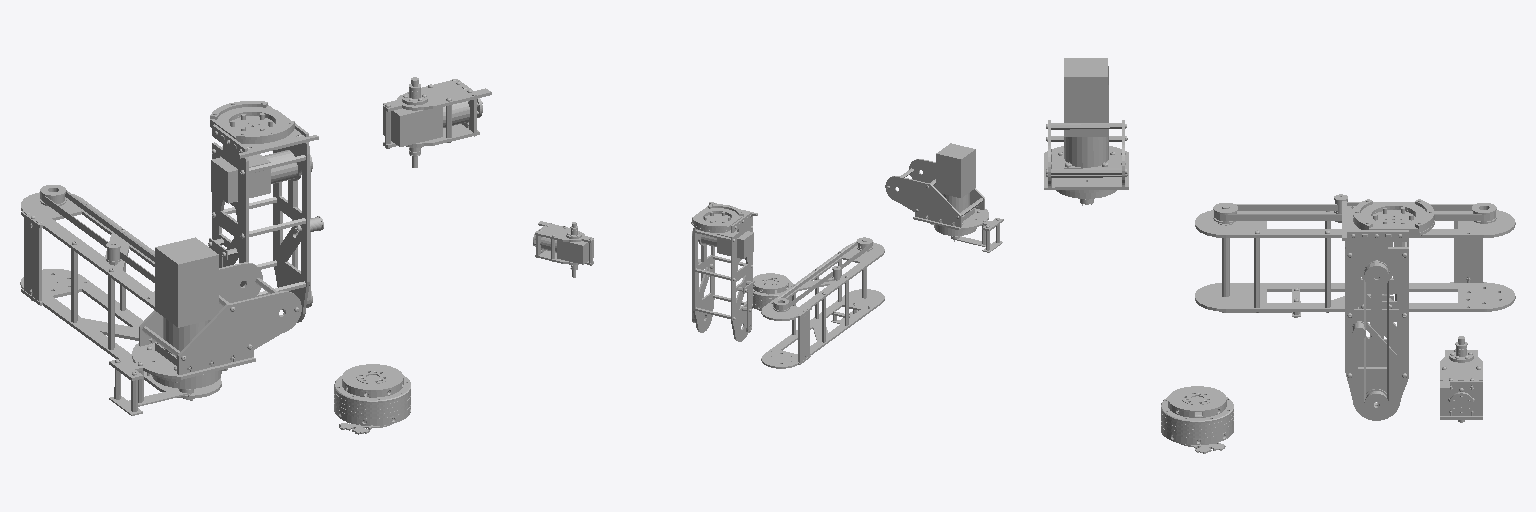
URDF robot description (urdf2):
<?xml version="1.0" encoding="utf-8"?>
<!-- This URDF was automatically created by SolidWorks to URDF Exporter! Originally created by [author] ([email redacted]) 
     Commit Version: 1.6.0-1-g15f4949  Build Version: 1.6.7594.29634
     For more information, please see http://wiki.ros.org/sw_urdf_exporter -->
<robot
  name="urdf2">
  <link
    name="base_link">
    <inertial>
      <origin
        xyz="-0.14899 0.15002 -0.0759"
        rpy="0 0 0" />
      <mass
        value="1.9822" />
      <inertia
        ixx="0.012049"
        ixy="1.1566E-08"
        ixz="1.8132E-07"
        iyy="0.011641"
        iyz="1.7455E-07"
        izz="0.016009" />
    </inertial>
    <visual>
      <origin
        xyz="0 0 0"
        rpy="0 0 0" />
      <geometry>
        <mesh
          filename="package://urdf2/meshes/base_link.STL" />
      </geometry>
      <material
        name="">
        <color
          rgba="0.75294 0.75294 0.75294 1" />
      </material>
    </visual>
    <collision>
      <origin
        xyz="0 0 0"
        rpy="0 0 0" />
      <geometry>
        <mesh
          filename="package://urdf2/meshes/base_link.STL" />
      </geometry>
    </collision>
  </link>
  <link
    name="link1">
    <inertial>
      <origin
        xyz="-0.0013865 0.15276 0.088653"
        rpy="0 0 0" />
      <mass
        value="1.3755" />
      <inertia
        ixx="0.0017311"
        ixy="4.6286E-06"
        ixz="5.0014E-06"
        iyy="0.002521"
        iyz="-0.00028073"
        izz="0.0030047" />
    </inertial>
    <visual>
      <origin
        xyz="0 0 0"
        rpy="0 0 0" />
      <geometry>
        <mesh
          filename="package://urdf2/meshes/link1.STL" />
      </geometry>
      <material
        name="">
        <color
          rgba="0.75294 0.75294 0.75294 1" />
      </material>
    </visual>
    <collision>
      <origin
        xyz="0 0 0"
        rpy="0 0 0" />
      <geometry>
        <mesh
          filename="package://urdf2/meshes/link1.STL" />
      </geometry>
    </collision>
  </link>
  <joint
    name="joint1"
    type="revolute">
    <origin
      xyz="-0.15 0.15 0.0375"
      rpy="0 0 0" />
    <parent
      link="base_link" />
    <child
      link="link1" />
    <axis
      xyz="0 0 1" />
    <limit
      lower="0"
      upper="0"
      effort="0"
      velocity="0" />
  </joint>
  <link
    name="link2">
    <inertial>
      <origin
        xyz="-0.17171 -0.0022525 -0.012291"
        rpy="0 0 0" />
      <mass
        value="0.2987" />
      <inertia
        ixx="0.00016953"
        ixy="5.2701E-06"
        ixz="-9.0978E-13"
        iyy="0.0029683"
        iyz="-8.8435E-13"
        izz="0.0030499" />
    </inertial>
    <visual>
      <origin
        xyz="0 0 0"
        rpy="0 0 0" />
      <geometry>
        <mesh
          filename="package://urdf2/meshes/link2.STL" />
      </geometry>
      <material
        name="">
        <color
          rgba="0.75294 0.75294 0.75294 1" />
      </material>
    </visual>
    <collision>
      <origin
        xyz="0 0 0"
        rpy="0 0 0" />
      <geometry>
        <mesh
          filename="package://urdf2/meshes/link2.STL" />
      </geometry>
    </collision>
  </link>
  <joint
    name="joint2"
    type="revolute">
    <origin
      xyz="-0.0005 0.18 0.118"
      rpy="-1.5708 0 1.5708" />
    <parent
      link="link1" />
    <child
      link="link2" />
    <axis
      xyz="0 0 -1" />
    <limit
      lower="0"
      upper="0"
      effort="0"
      velocity="0" />
  </joint>
  <link
    name="link3">
    <inertial>
      <origin
        xyz="-0.10081 -0.0057971 2.01E-06"
        rpy="0 0 0" />
      <mass
        value="0.69326" />
      <inertia
        ixx="0.00097315"
        ixy="-2.9051E-05"
        ixz="-6.3293E-09"
        iyy="0.0006427"
        iyz="7.8716E-09"
        izz="0.0011748" />
    </inertial>
    <visual>
      <origin
        xyz="0 0 0"
        rpy="0 0 0" />
      <geometry>
        <mesh
          filename="package://urdf2/meshes/link3.STL" />
      </geometry>
      <material
        name="">
        <color
          rgba="0.75294 0.75294 0.75294 1" />
      </material>
    </visual>
    <collision>
      <origin
        xyz="0 0 0"
        rpy="0 0 0" />
      <geometry>
        <mesh
          filename="package://urdf2/meshes/link3.STL" />
      </geometry>
    </collision>
  </link>
  <joint
    name="joint3"
    type="revolute">
    <origin
      xyz="-0.33 0 0"
      rpy="0 0 1.5651" />
    <parent
      link="link2" />
    <child
      link="link3" />
    <axis
      xyz="0 0 -1" />
    <limit
      lower="0"
      upper="0"
      effort="0"
      velocity="0" />
  </joint>
  <link
    name="link4">
    <inertial>
      <origin
        xyz="0.018808 -0.0020304 0.072716"
        rpy="0 0 0" />
      <mass
        value="0.43855" />
      <inertia
        ixx="0.00096859"
        ixy="-1.2408E-08"
        ixz="5.1704E-06"
        iyy="0.0009677"
        iyz="8.7228E-13"
        izz="0.00033754" />
    </inertial>
    <visual>
      <origin
        xyz="0 0 0"
        rpy="0 0 0" />
      <geometry>
        <mesh
          filename="package://urdf2/meshes/link4.STL" />
      </geometry>
      <material
        name="">
        <color
          rgba="0.75294 0.75294 0.75294 1" />
      </material>
    </visual>
    <collision>
      <origin
        xyz="0 0 0"
        rpy="0 0 0" />
      <geometry>
        <mesh
          filename="package://urdf2/meshes/link4.STL" />
      </geometry>
    </collision>
  </link>
  <joint
    name="joint4"
    type="revolute">
    <origin
      xyz="-0.10547 -0.092097 0"
      rpy="1.5708 0 0.0057265" />
    <parent
      link="link3" />
    <child
      link="link4" />
    <axis
      xyz="0 0 -1" />
    <limit
      lower="0"
      upper="0"
      effort="0"
      velocity="0" />
  </joint>
  <link
    name="link5">
    <inertial>
      <origin
        xyz="-7.4642E-05 0.018439 -0.001988"
        rpy="0 0 0" />
      <mass
        value="0.2392" />
      <inertia
        ixx="0.00018859"
        ixy="9.6096E-07"
        ixz="1.4516E-09"
        iyy="5.6612E-05"
        iyz="1.1347E-08"
        izz="0.00020112" />
    </inertial>
    <visual>
      <origin
        xyz="0 0 0"
        rpy="0 0 0" />
      <geometry>
        <mesh
          filename="package://urdf2/meshes/link5.STL" />
      </geometry>
      <material
        name="">
        <color
          rgba="0.75294 0.75294 0.75294 1" />
      </material>
    </visual>
    <collision>
      <origin
        xyz="0 0 0"
        rpy="0 0 0" />
      <geometry>
        <mesh
          filename="package://urdf2/meshes/link5.STL" />
      </geometry>
    </collision>
  </link>
  <joint
    name="joint5"
    type="revolute">
    <origin
      xyz="0.02185 0 0.224"
      rpy="1.5708 -1.5708 0" />
    <parent
      link="link4" />
    <child
      link="link5" />
    <axis
      xyz="0 0 1" />
    <limit
      lower="0"
      upper="0"
      effort="0"
      velocity="0" />
  </joint>
  <link
    name="link6">
    <inertial>
      <origin
        xyz="-0.017164 -0.00018833 0.020914"
        rpy="0 0 0" />
      <mass
        value="0.021655" />
      <inertia
        ixx="6.5964E-06"
        ixy="-1.7068E-07"
        ixz="4.1883E-22"
        iyy="1.0789E-05"
        iyz="-8.5836E-21"
        izz="7.0208E-06" />
    </inertial>
    <visual>
      <origin
        xyz="0 0 0"
        rpy="0 0 0" />
      <geometry>
        <mesh
          filename="package://urdf2/meshes/link6.STL" />
      </geometry>
      <material
        name="">
        <color
          rgba="0.75294 0.75294 0.75294 1" />
      </material>
    </visual>
    <collision>
      <origin
        xyz="0 0 0"
        rpy="0 0 0" />
      <geometry>
        <mesh
          filename="package://urdf2/meshes/link6.STL" />
      </geometry>
    </collision>
  </link>
  <joint
    name="joint6"
    type="revolute">
    <origin
      xyz="0 0.086 0"
      rpy="1.5708 -1.5708 0" />
    <parent
      link="link5" />
    <child
      link="link6" />
    <axis
      xyz="0 0 1" />
    <limit
      lower="0"
      upper="0"
      effort="0"
      velocity="0" />
  </joint>
  <link
    name="gripper">
    <inertial>
      <origin
        xyz="-0.00053725 -0.06479 0.002"
        rpy="0 0 0" />
      <mass
        value="0.008813" />
      <inertia
        ixx="4.3239E-06"
        ixy="-1.7068E-07"
        ixz="7.2384E-24"
        iyy="9.1247E-07"
        iyz="7.0936E-22"
        izz="5.2128E-06" />
    </inertial>
    <visual>
      <origin
        xyz="0 0 0"
        rpy="0 0 0" />
      <geometry>
        <mesh
          filename="package://urdf2/meshes/gripper.STL" />
      </geometry>
      <material
        name="">
        <color
          rgba="1 1 1 1" />
      </material>
    </visual>
    <collision>
      <origin
        xyz="0 0 0"
        rpy="0 0 0" />
      <geometry>
        <mesh
          filename="package://urdf2/meshes/gripper.STL" />
      </geometry>
    </collision>
  </link>
  <joint
    name="g"
    type="fixed">
    <origin
      xyz="-0.078254 -0.001 0.004"
      rpy="-3.1416 0 -1.5708" />
    <parent
      link="link6" />
    <child
      link="gripper" />
    <axis
      xyz="0 0 0" />
  </joint>
</robot>

--- What the picture shows (computed from the rendered views, not written in the file) ---
3 views of the same robot in one strip: view 1: azimuth 30°, elevation 25°; view 2: azimuth 150°, elevation 25°; view 3: azimuth 270°, elevation 25° (orthographic).
Robot: urdf2 — 8 links, 7 joints (6 revolute, 1 fixed); root link base_link; default pose: all joints at 0.
Links seen in each view (by area): view 1: link3, link4, link2, link5, link1; view 2: link2, link3, link4, link5, link1; view 3: link2, link4, link3, link1, link5.
Boxes of the visible links, x1,y1,x2,y2 form: link3: [109, 237, 301, 415]; link4: [208, 101, 323, 322]; link2: [20, 185, 221, 400]; link5: [383, 77, 491, 167]; link1: [334, 364, 410, 434]; link2: [761, 237, 884, 368]; link3: [885, 143, 1003, 252]; link4: [691, 202, 757, 341]; link5: [533, 221, 593, 277]; link1: [746, 273, 793, 310]; link2: [1195, 194, 1515, 317]; link4: [1342, 199, 1434, 420]; link3: [1044, 58, 1128, 205]; link1: [1161, 386, 1233, 453]; link5: [1440, 336, 1482, 422].
Bounding box of the posed robot: 0.7817 × 0.6017 × 0.3618 m (x, y, z).
Meshes: 8 distinct files referenced, 5 mesh visuals loaded (5 binary STL); not drawn: 3 (reference not matched to a file when rendering).
